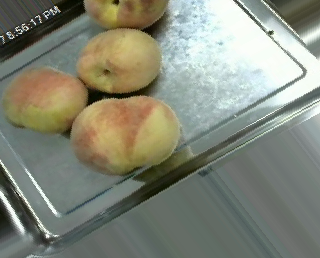Peach: (70, 94, 179, 172), (2, 64, 87, 135), (77, 28, 160, 94), (83, 0, 172, 25)
